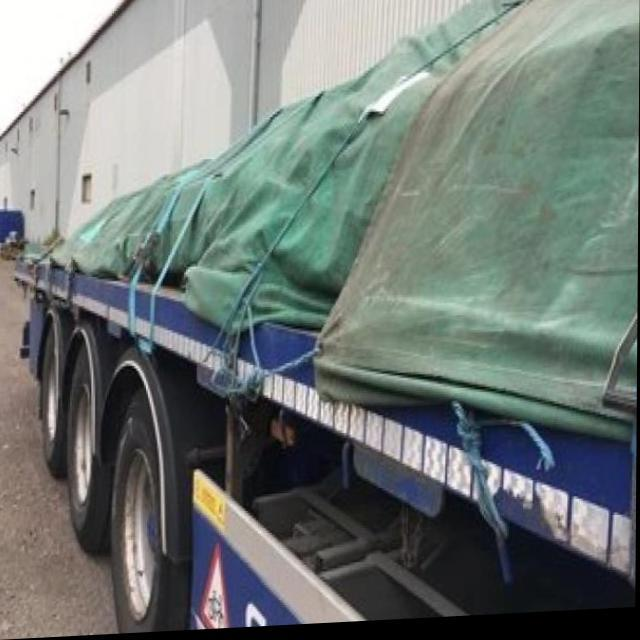covered: (0, 31, 640, 438)
